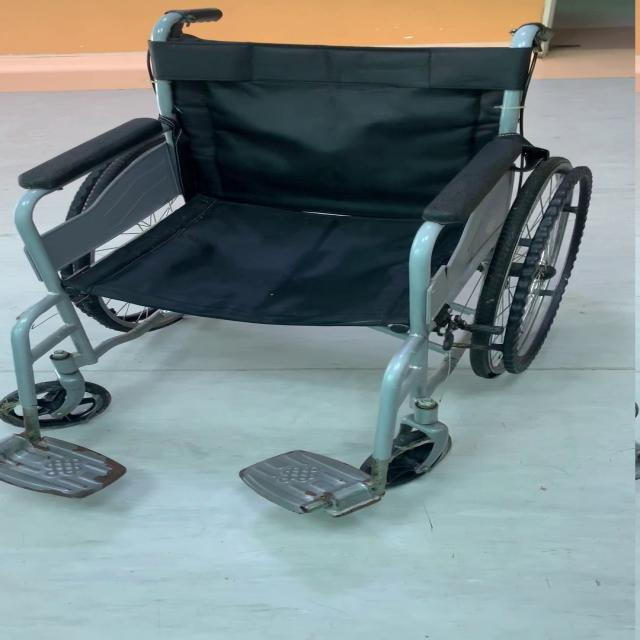wheelchair: (0, 0, 605, 528)
